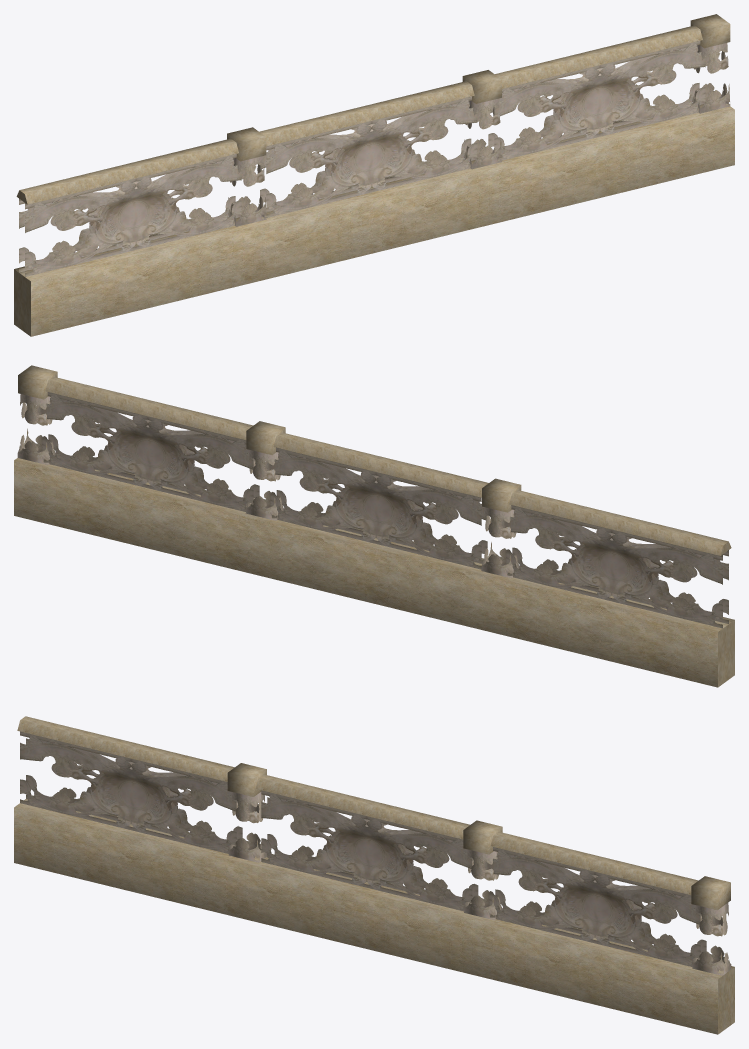
Rendered from thm_nboo_imprv_pillar_wall_ornate_large_s01_l1.fbx.
3 views of the same model, one above another, from view 1: azimuth 30°, elevation 25°; view 2: azimuth 150°, elevation 25°; view 3: azimuth 330°, elevation 25° (orthographic).
Visible parts, largest first — view 1: mesh_node; view 2: mesh_node; view 3: mesh_node.
Boxes of the visible parts, left/top/right/bottom form: mesh_node: left=14, top=14, right=734, bottom=336; mesh_node: left=14, top=365, right=734, bottom=687; mesh_node: left=14, top=716, right=734, bottom=1034.
Bounding box in the file's own units: 8.19 × 1.56 × 0.342.
